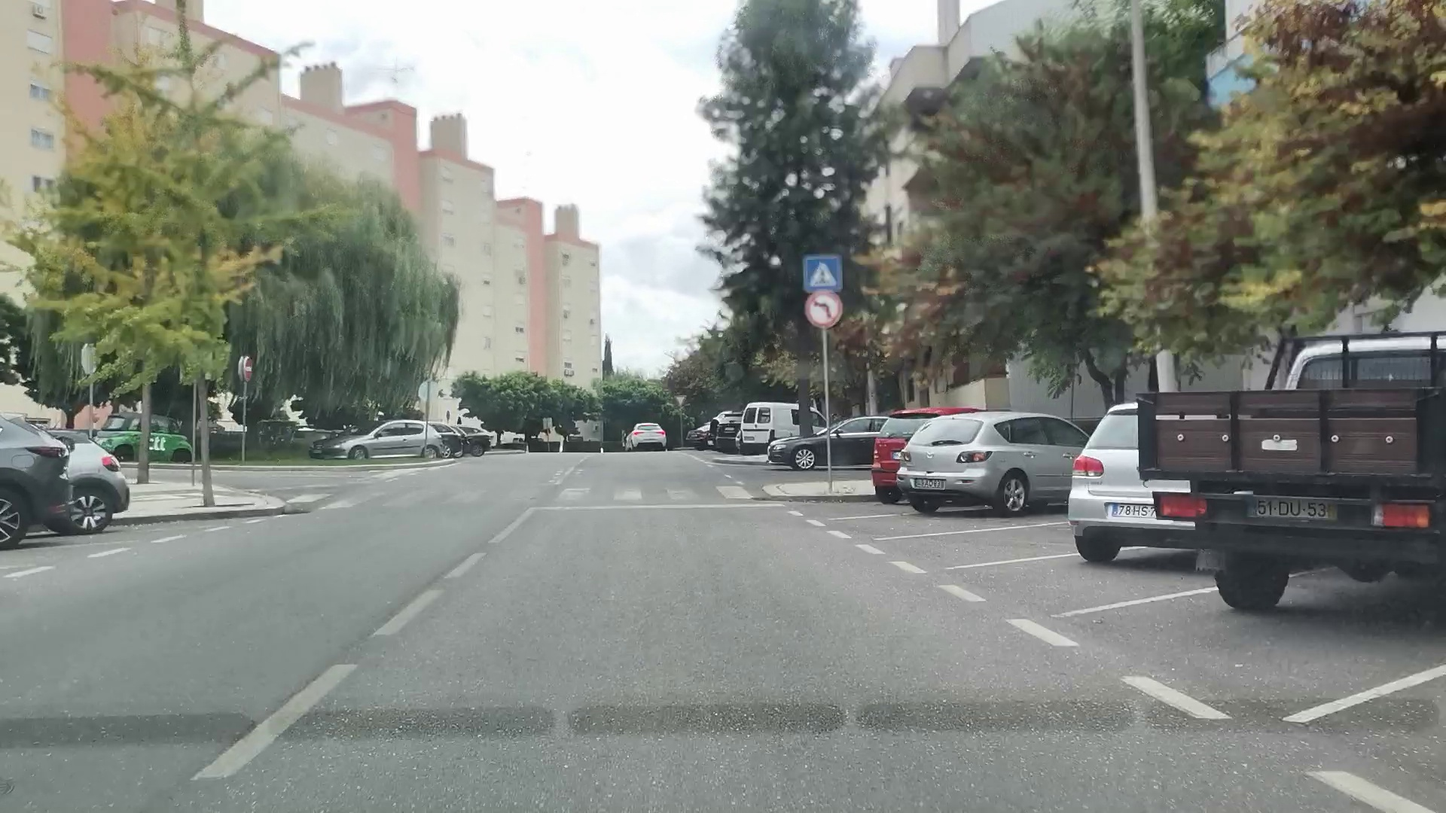Stairs: (290, 484, 768, 509)
